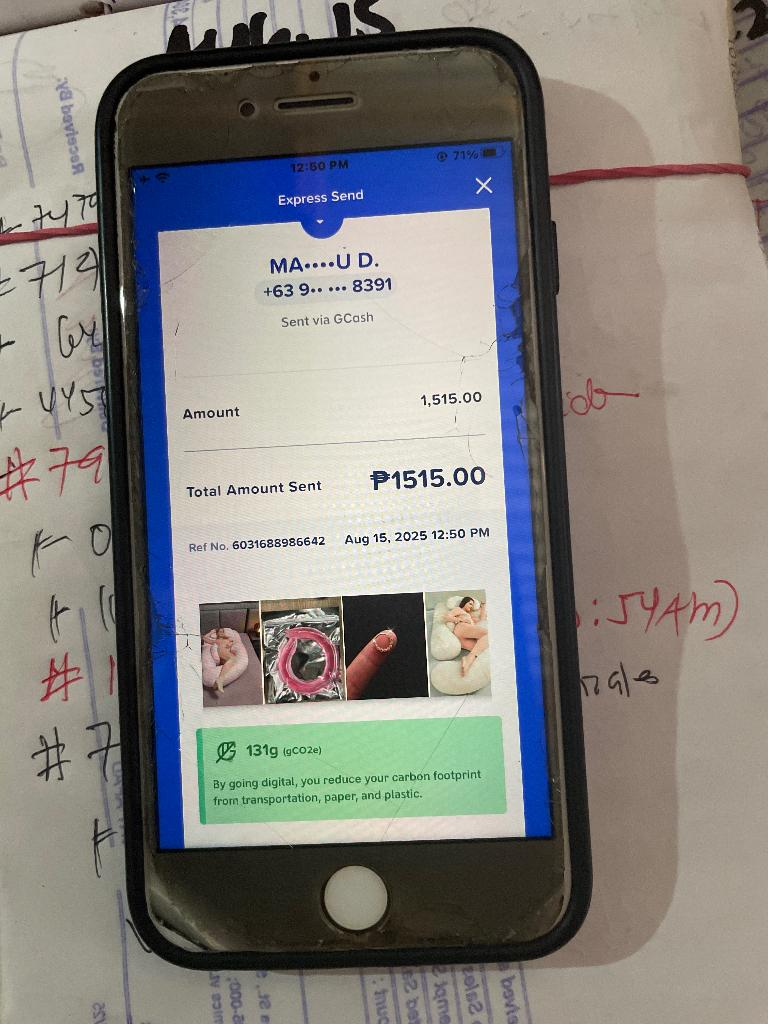Receipt: (135, 138, 551, 848)
